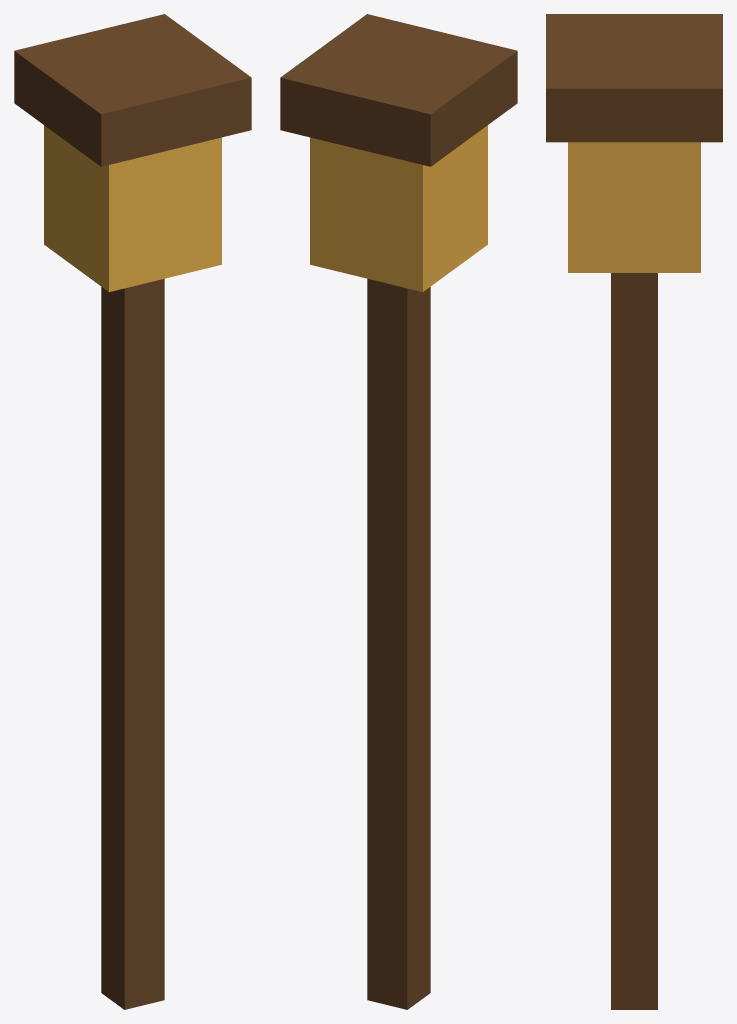
File: lamp_post.glb
3 renders of one model, left to right at view 1: azimuth 30°, elevation 25°; view 2: azimuth 150°, elevation 25°; view 3: azimuth 270°, elevation 25°, orthographic.
Parts seen in each view (by area): view 1: lamp_post; view 2: lamp_post; view 3: lamp_post.
Part boxes in pixels (left/top/right/bottom): lamp_post: left=14, top=14, right=251, bottom=1009; lamp_post: left=280, top=14, right=517, bottom=1009; lamp_post: left=546, top=14, right=722, bottom=1009.
Bounding box in the file's own units: 0.6 × 3.55 × 0.6.
